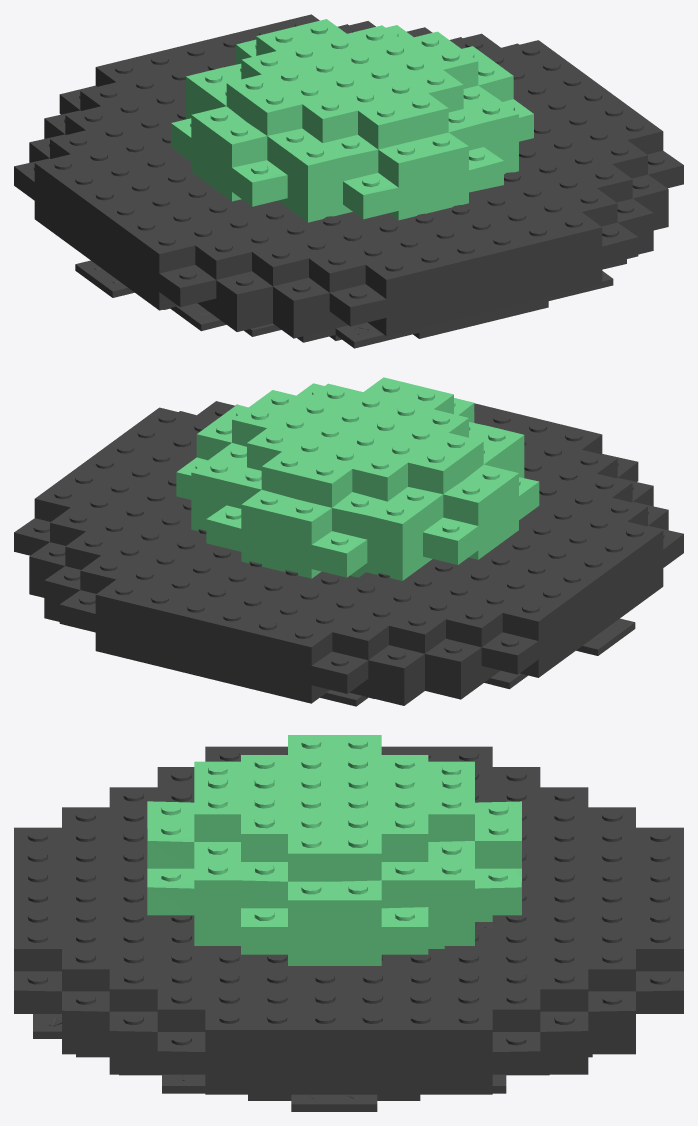
The model's file is alien.glb.
The picture shows the model from 3 angles, top to bottom: view 1: azimuth 30°, elevation 25°; view 2: azimuth 150°, elevation 25°; view 3: azimuth 270°, elevation 25°; orthographic projection. The views are drawn at different scales.
Visible parts, largest first — view 1: Object_8; view 2: Object_8; view 3: Object_8.
Boxes of the visible parts, left/top/right/bottom form: Object_8: left=14, top=14, right=683, bottom=348; Object_8: left=14, top=377, right=683, bottom=706; Object_8: left=14, top=735, right=683, bottom=1111.
Bounding box in the file's own units: 5.31 × 1.55 × 5.16.
